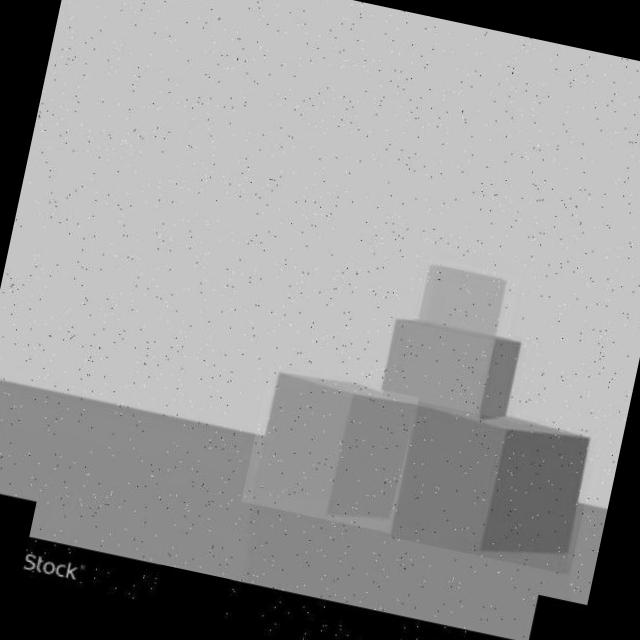box: (391, 402, 598, 575), (241, 366, 418, 533), (374, 314, 528, 432), (414, 256, 521, 344)
